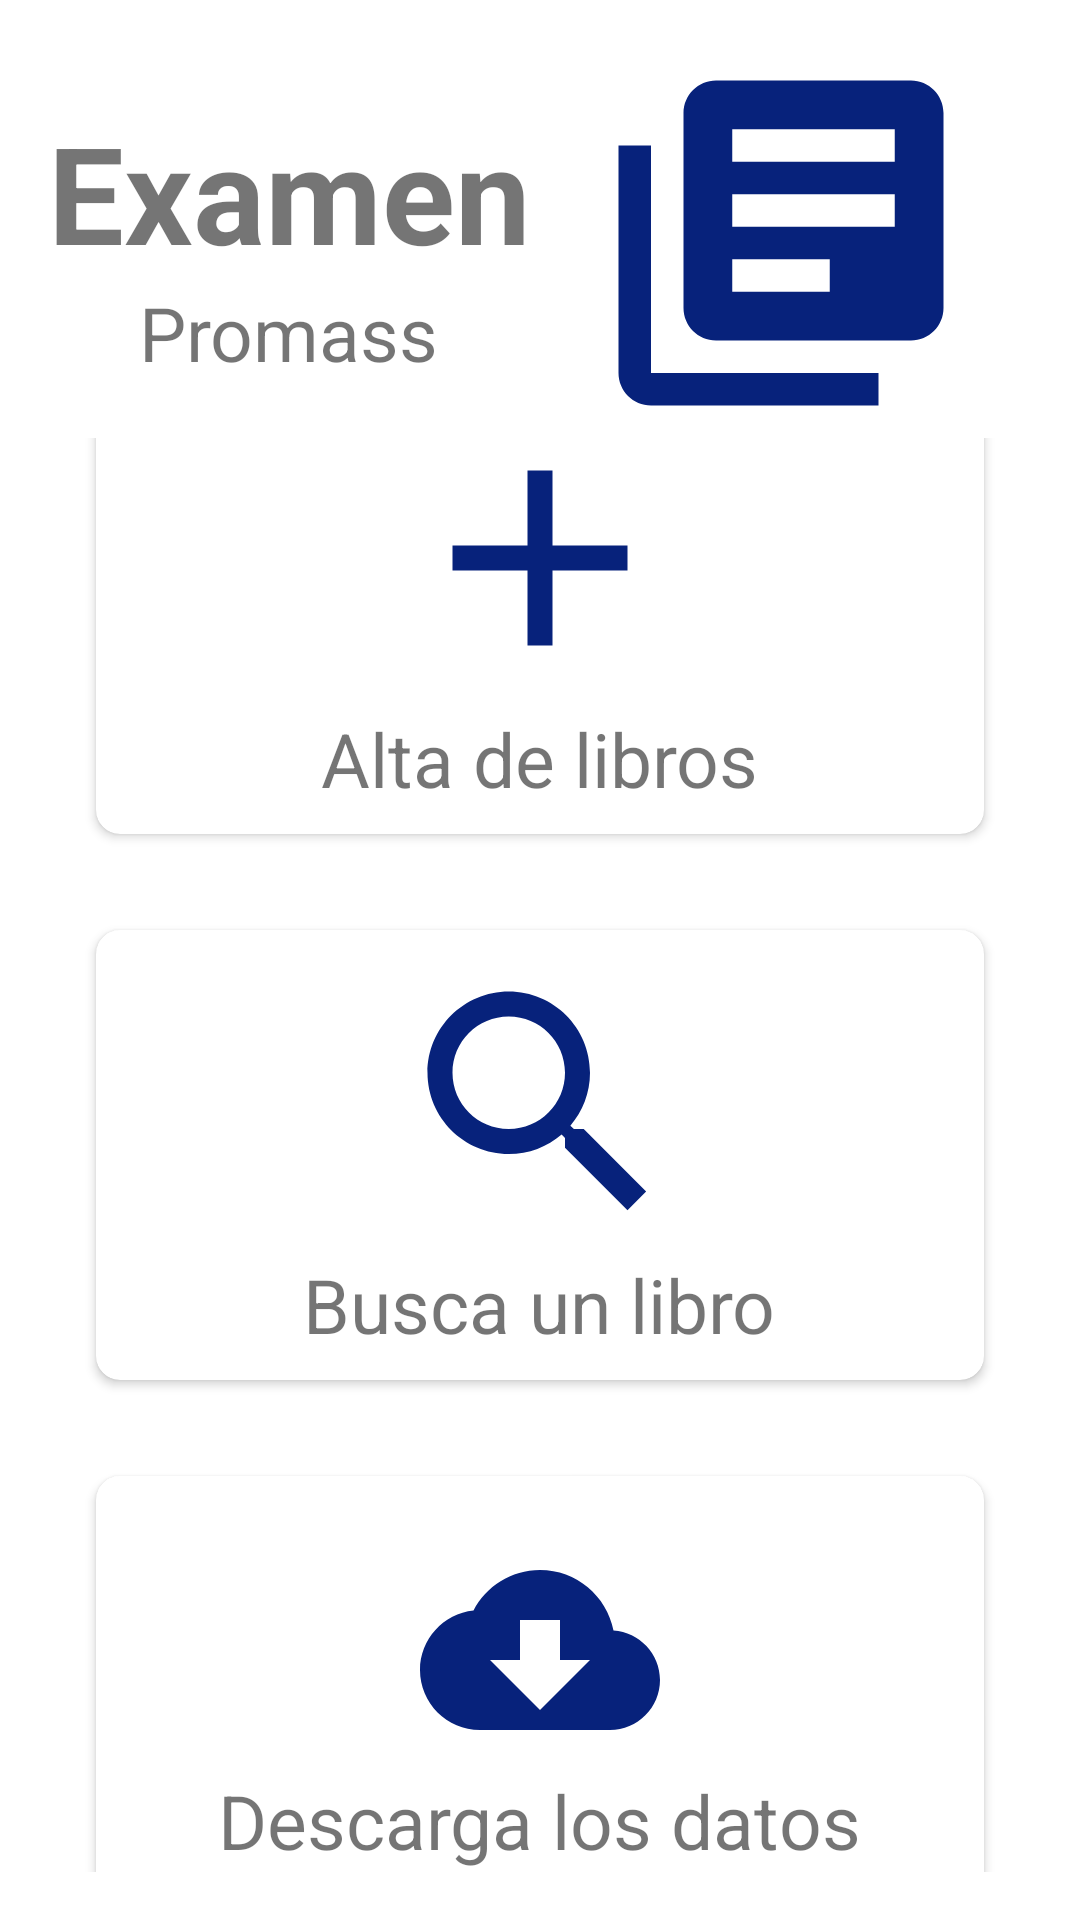

Screen size 1080 x 1920. Icon name, then its box in pixels as box=[x1, y1, x2, y2]:
add: box=[452, 470, 628, 646]
book: box=[618, 80, 944, 406]
search: box=[427, 991, 646, 1210]
